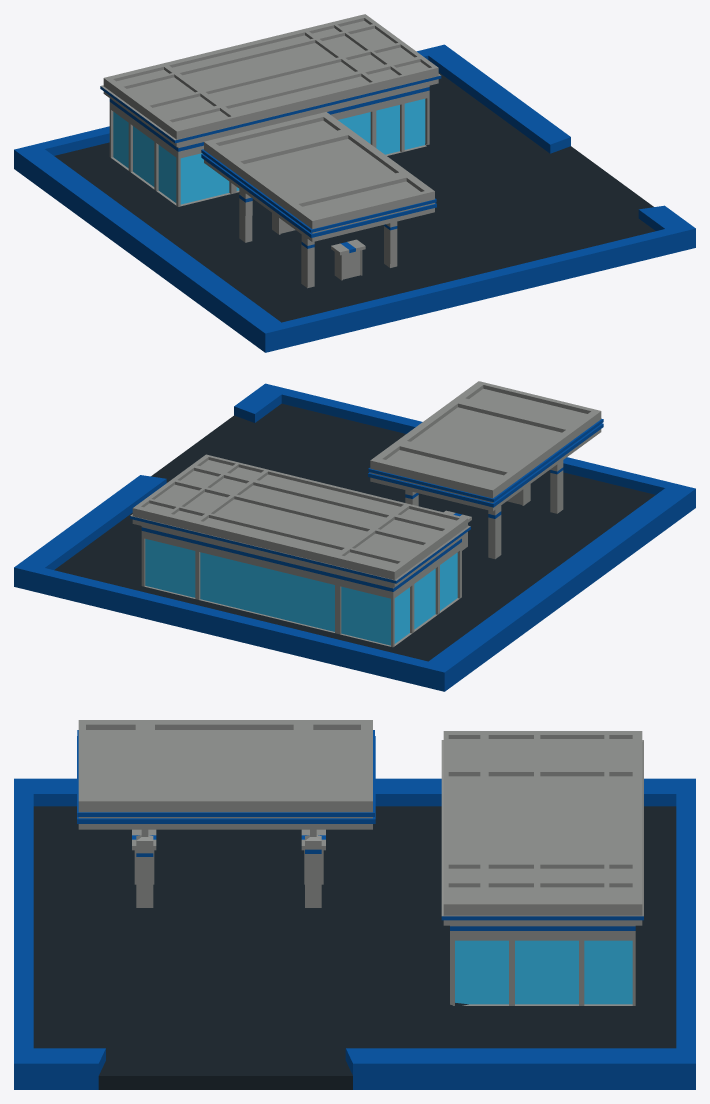
Rendered from stacja benz z podstawka.fbx.
3 renders of one model, top to bottom at view 1: azimuth 30°, elevation 25°; view 2: azimuth 150°, elevation 25°; view 3: azimuth 270°, elevation 25°, orthographic. The views are drawn at different scales.
Parts seen in each view (by area): view 1: Cube.002, dach, stacja.004, stacja, stacja.032, stacja.012, stacja.025, stacja.001, dach.003, dach.012, stacja.003, stacja.010 (+14 smaller); view 2: Cube.002, dach, stacja.007, stacja.004, stacja, stacja.001, stacja.002, stacja.012, dach.012, stacja.037, stacja.032, dach.003 (+16 smaller); view 3: Cube.002, dach, stacja, dach.003, stacja.004, stacja.001, stacja.012, stacja.025, stacja.032, stacja.008, stacja.002, stacja.019 (+16 smaller).
Part boxes in pixels (x1,y1,x2,y2): Cube.002: (14,44,695,352); dach: (219,117,436,241); stacja.004: (109,76,238,206); stacja: (109,35,440,206); stacja.032: (293,67,441,120); stacja.012: (158,75,276,191); stacja.025: (233,72,321,123); stacja.001: (123,108,220,176); dach.003: (280,113,398,173); dach.012: (258,140,364,179); stacja.003: (339,92,429,139); stacja.010: (100,77,154,189); Cube.002: (14,383,695,691); dach: (373,381,603,511); stacja.007: (251,542,359,635); stacja.004: (364,505,467,614); stacja: (174,455,461,647); stacja.001: (141,524,470,598); stacja.002: (130,500,233,607); stacja.012: (322,497,413,555); dach.012: (444,421,519,471); stacja.037: (345,559,395,644); stacja.032: (206,454,324,507); dach.003: (372,402,463,468); Cube.002: (14,778,695,1089); dach: (77,720,375,829); stacja: (443,829,616,1005); dach.003: (148,764,369,829); stacja.004: (441,731,627,778); stacja.001: (441,740,635,1005); stacja.012: (441,759,609,804); stacja.025: (441,789,565,837); stacja.032: (441,825,529,933); stacja.008: (519,871,614,934); stacja.002: (577,857,643,934); stacja.019: (451,957,510,1005).
Size of the model in its own units: 1489 by 321 by 1505.
